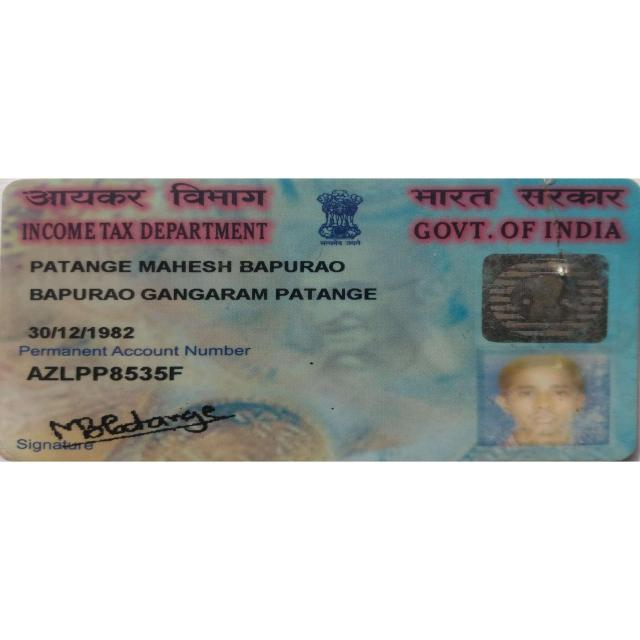pan_card: (4, 179, 634, 458)
